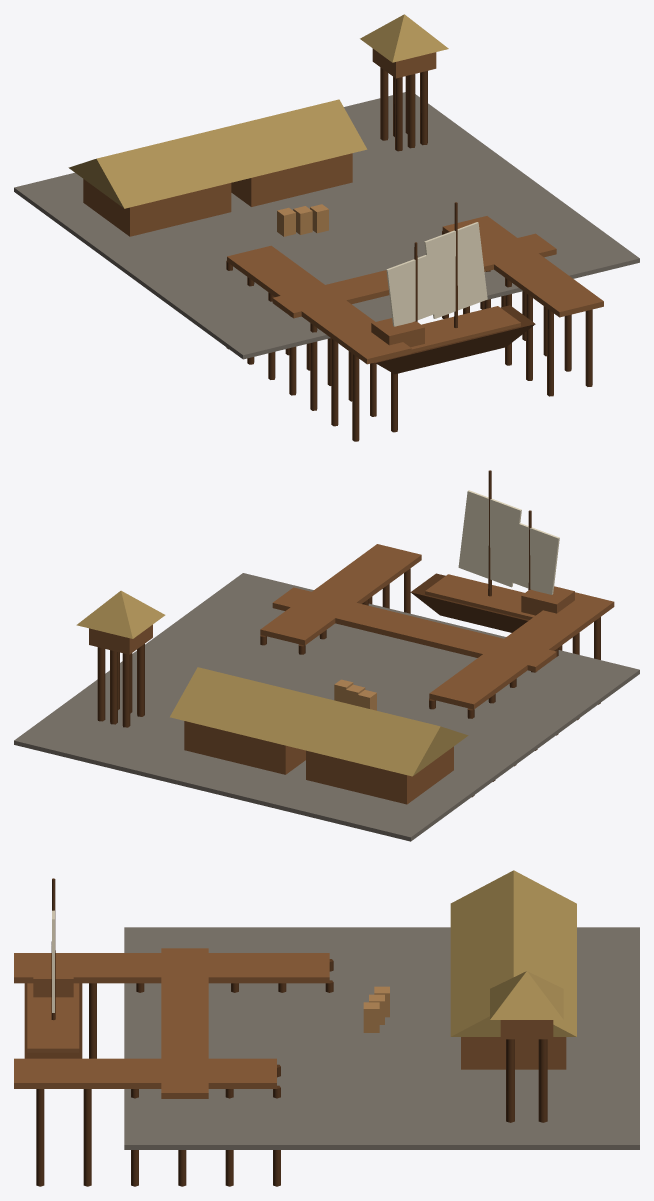
File: building_pelabuhan.glb
3 views of the same model, one above another, from view 1: azimuth 30°, elevation 25°; view 2: azimuth 150°, elevation 25°; view 3: azimuth 270°, elevation 25° (orthographic). The views are drawn at different scales.
Visible parts, largest first — view 1: building_pelabuhan; view 2: building_pelabuhan; view 3: building_pelabuhan.
Boxes of the visible parts, left/top/right/bottom form: building_pelabuhan: left=14, top=14, right=639, bottom=441; building_pelabuhan: left=14, top=470, right=639, bottom=841; building_pelabuhan: left=14, top=870, right=639, bottom=1186.
Size of the model in its own units: 1.96 by 0.99 by 2.38.
